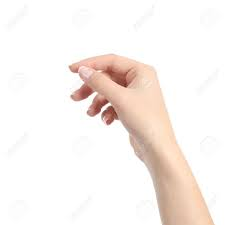hand: (46, 40, 188, 171)
